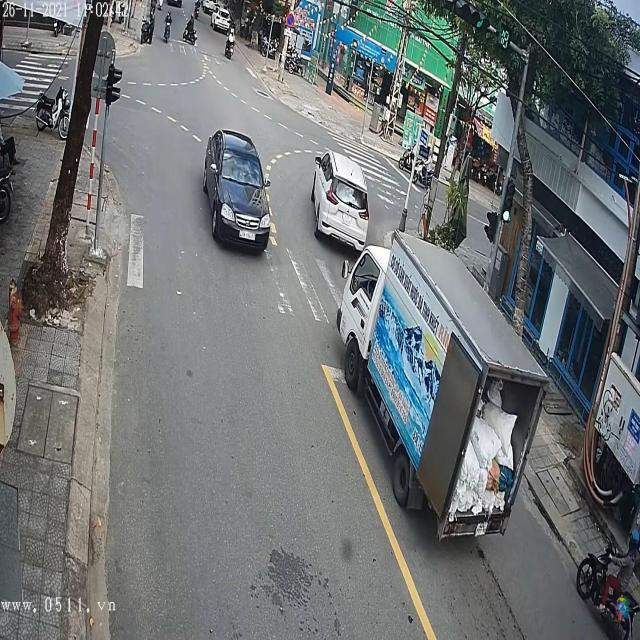car: (205, 132, 271, 253), (311, 150, 375, 253)
motorcycle: (575, 535, 640, 640)
truck: (335, 230, 549, 552)
